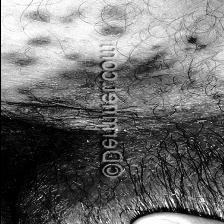Toxin: (126, 66, 224, 198), (38, 67, 95, 215), (148, 47, 192, 66), (110, 14, 127, 38), (28, 36, 52, 52), (24, 8, 60, 18), (2, 55, 32, 63)
